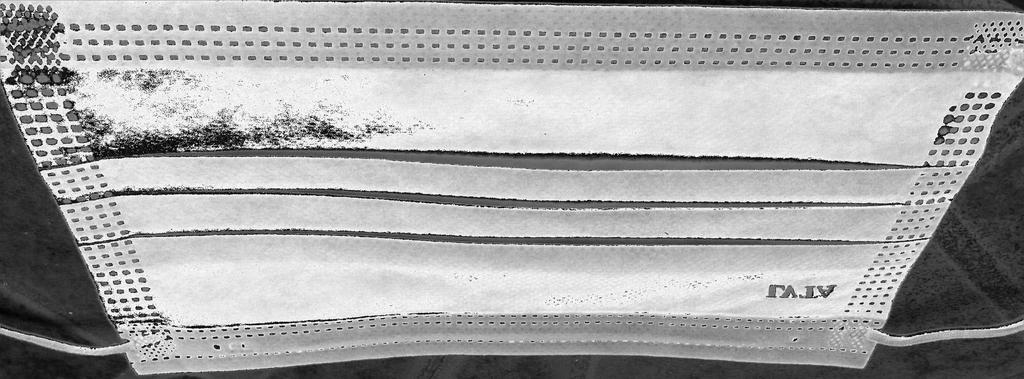High GSM: (48, 60, 966, 327)
